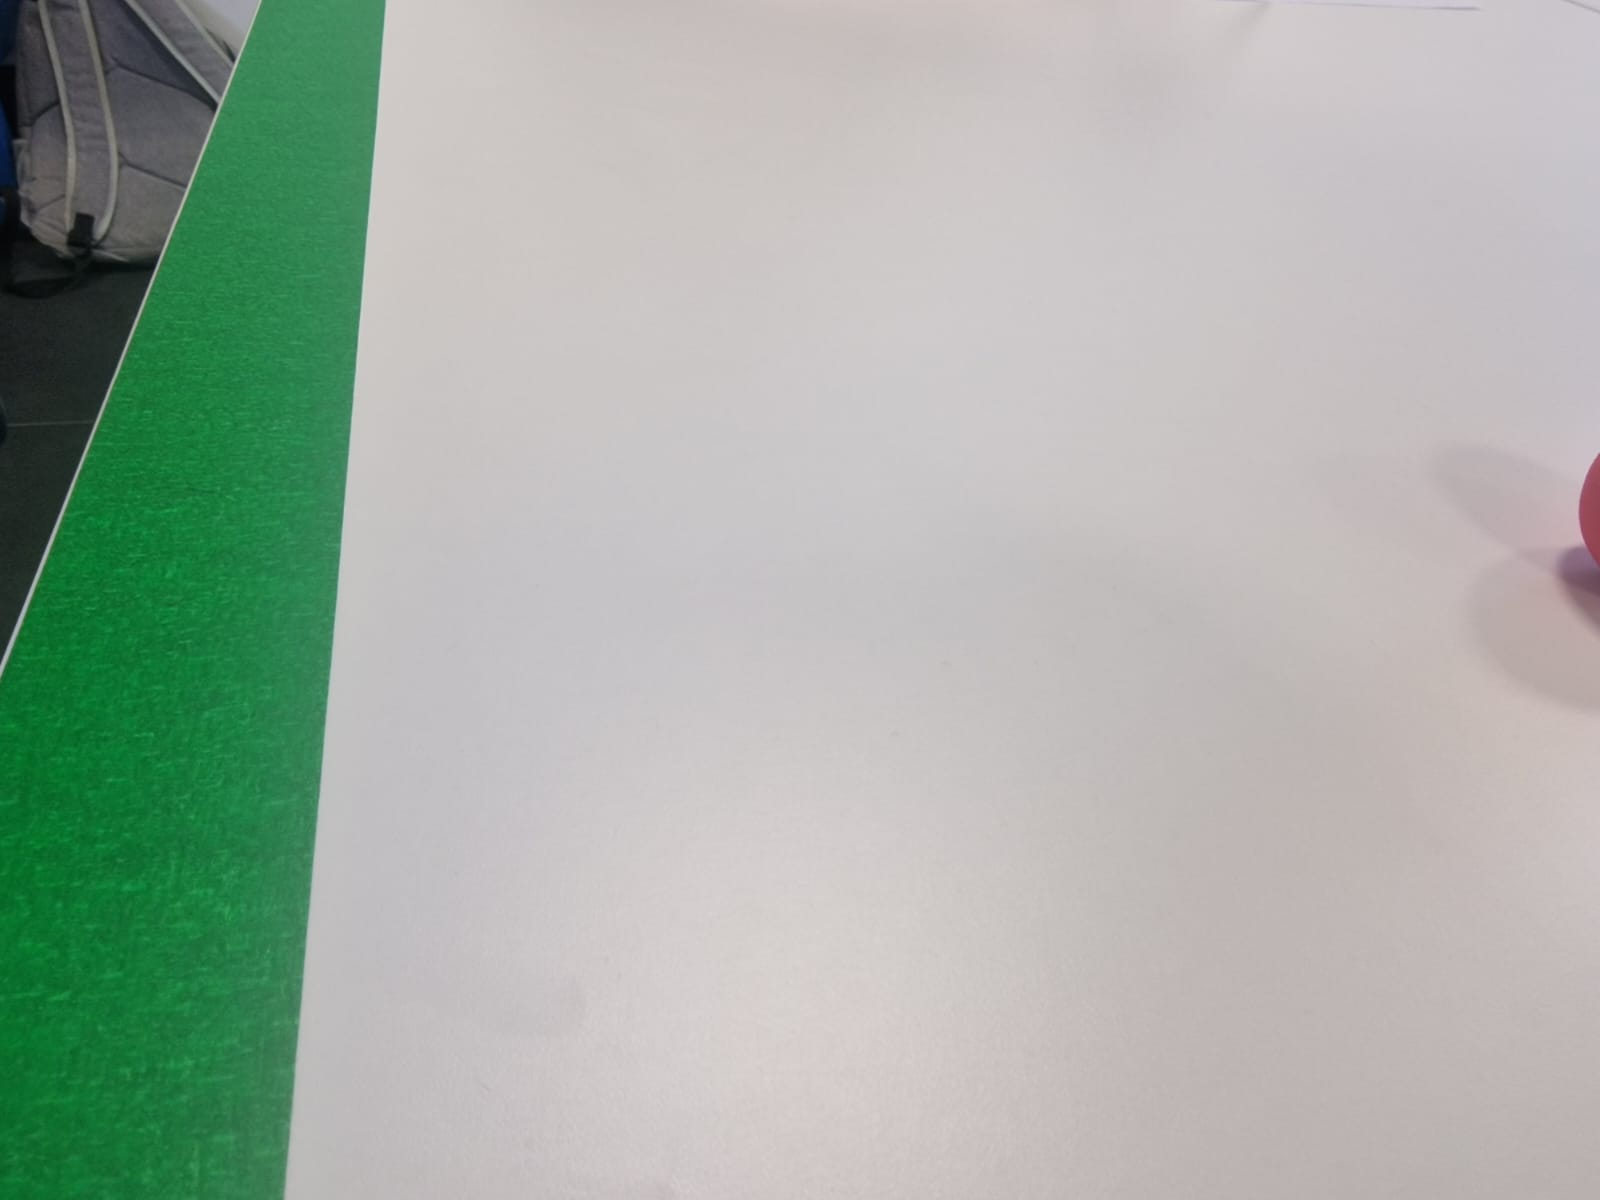linea_cerca: (1, 3, 389, 1200)
